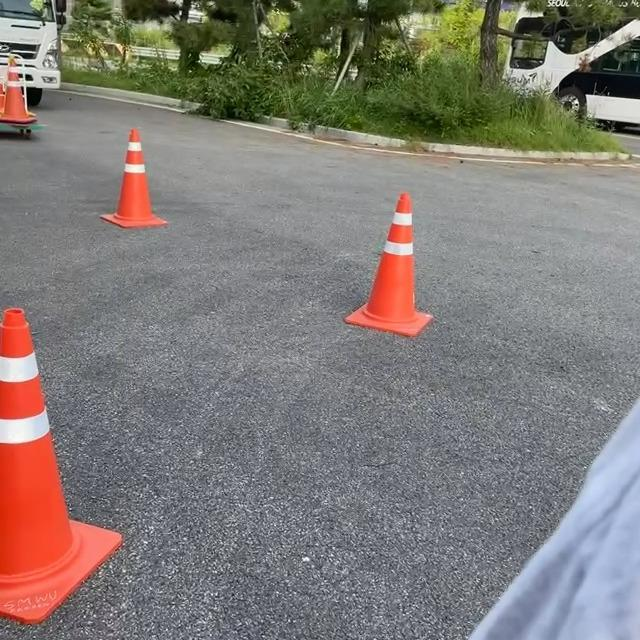fallen_object: (0, 261, 165, 640), (312, 170, 448, 373), (65, 87, 178, 247), (0, 45, 38, 146)
